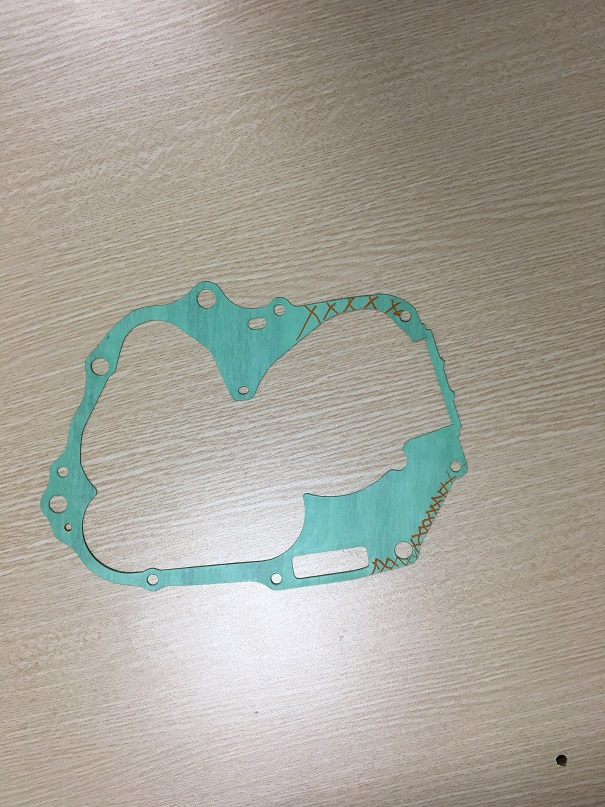type3: (31, 271, 481, 606)
